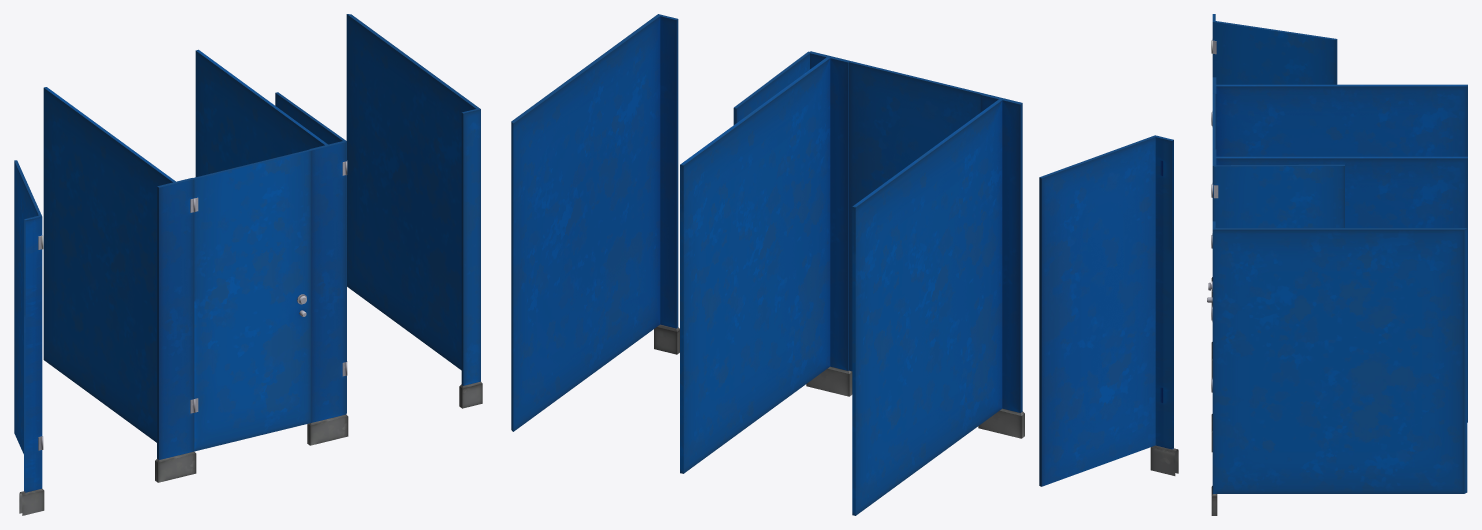
Rendered from toilet.fbx.
3 views of the same model, side by side, from view 1: azimuth 30°, elevation 25°; view 2: azimuth 150°, elevation 25°; view 3: azimuth 270°, elevation 25° (orthographic). The views are drawn at different scales.
Parts seen in each view (by area): view 1: toilet_Wall, Cube.083, Cube.086, Cube.087; view 2: toilet_Wall, Cube.086, Cube.083, Cube.087; view 3: toilet_Wall, Cube.087, Cube.086, Cube.083.
Boxes of the visible parts, x1,y1,x2,y2 form: toilet_Wall: (19, 14, 482, 515); Cube.083: (193, 149, 310, 451); Cube.086: (14, 160, 41, 453); Cube.087: (275, 92, 347, 413); toilet_Wall: (511, 14, 1178, 515); Cube.086: (1039, 135, 1156, 486); Cube.083: (849, 61, 982, 371); Cube.087: (733, 51, 810, 124); toilet_Wall: (1211, 14, 1467, 515); Cube.087: (1214, 164, 1344, 227); Cube.086: (1212, 20, 1337, 84); Cube.083: (1207, 94, 1215, 321).
Size of the model in its own units: 727 by 444 by 367.
